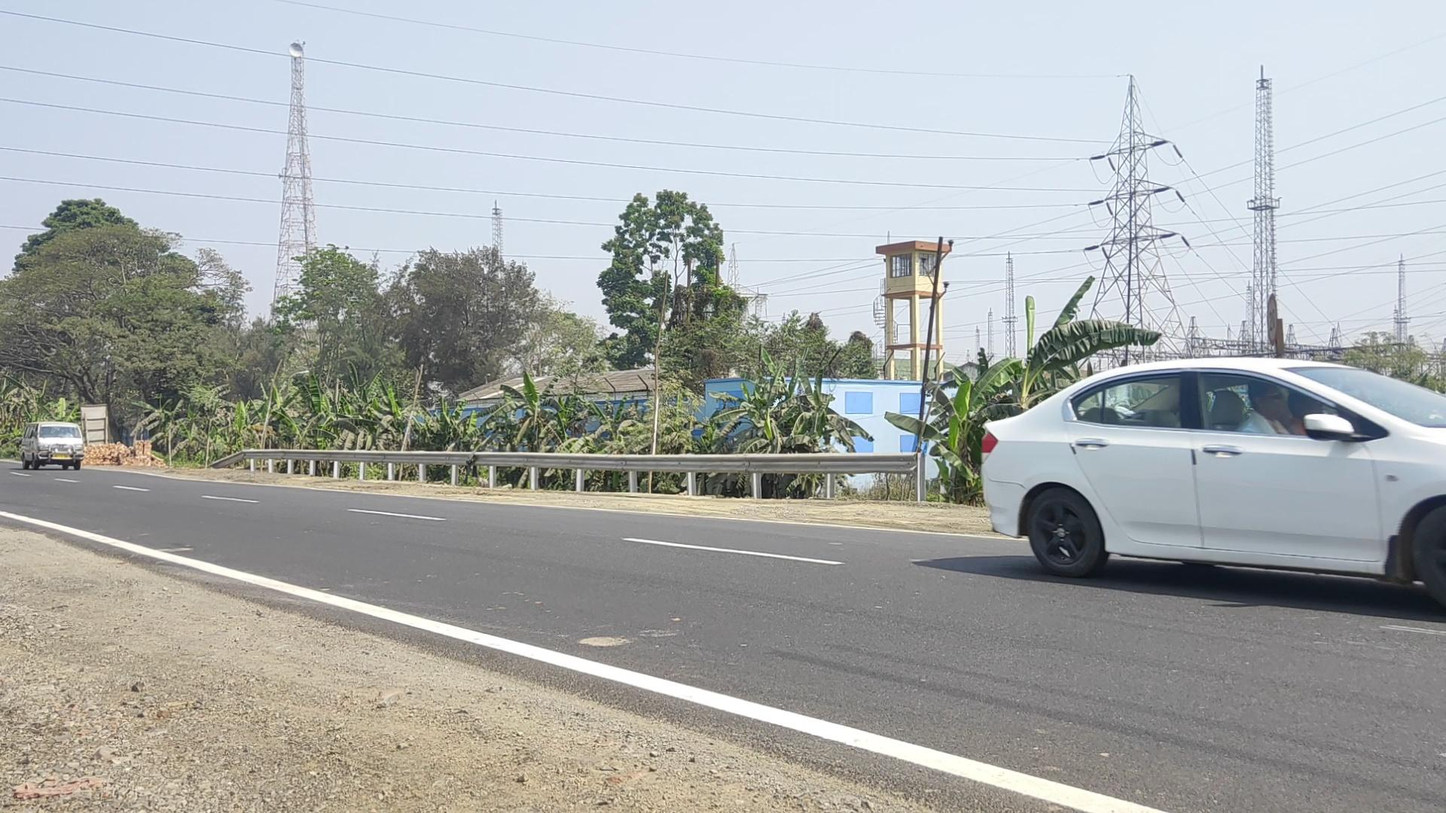car: (981, 358, 1446, 614)
van: (20, 421, 84, 470)
